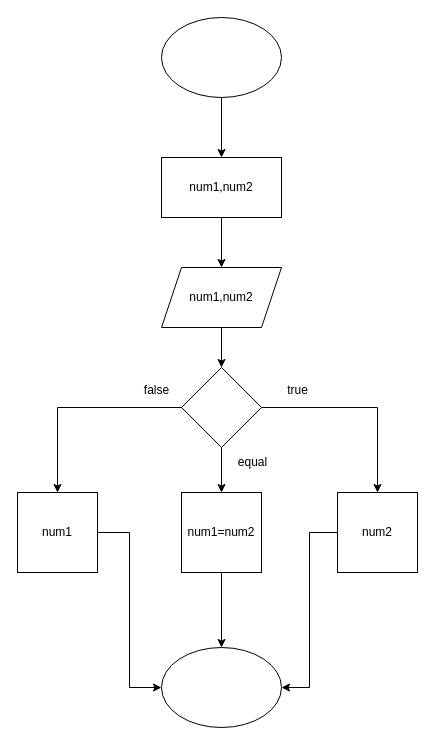
Some shapes in this 435 by 745 pixel diagram are drawn without their labels. The shapes that lost their labels are listed below. From the top down, each one's box as (x1, y1, x2, y2) in pixels, then its label:
(160, 16, 282, 98): START
(180, 366, 262, 448): num1>num2
(160, 646, 282, 728): END
